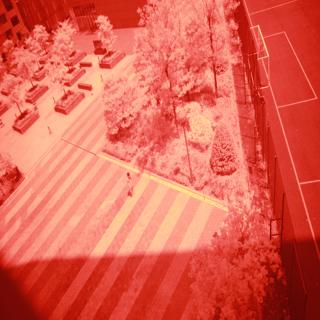person: (120, 167, 136, 205)
